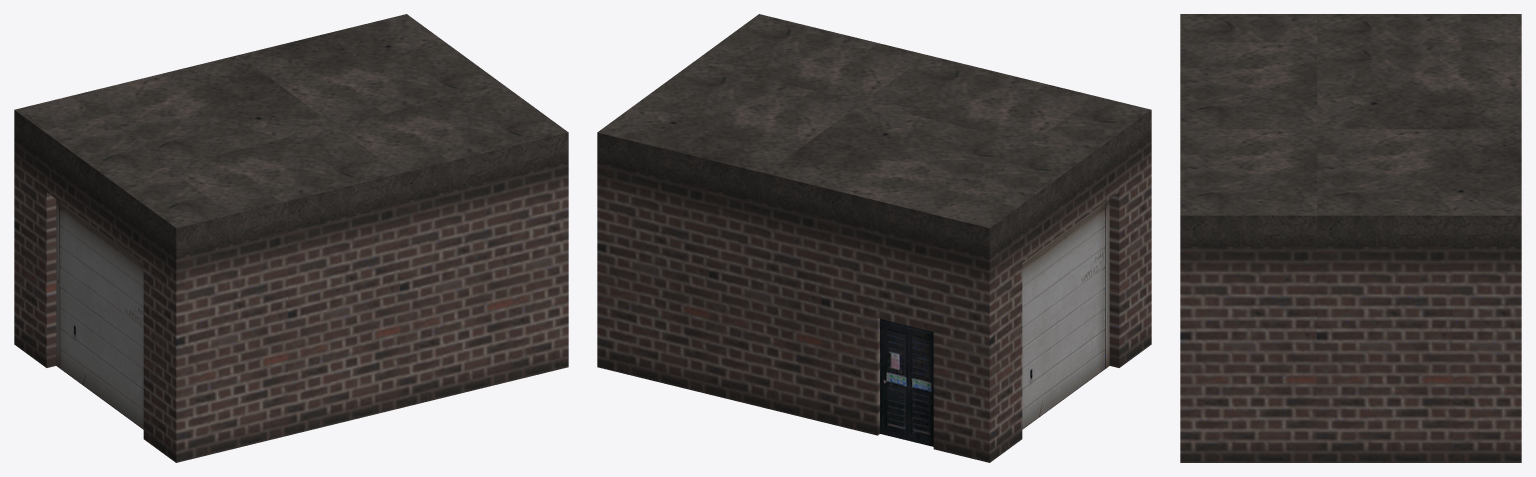
Rendered from building5.fbx.
The picture shows the model from 3 angles, left to right: view 1: azimuth 30°, elevation 25°; view 2: azimuth 150°, elevation 25°; view 3: azimuth 270°, elevation 25°; orthographic projection. The views are drawn at different scales.
Visible parts, largest first — view 1: building5; view 2: building5; view 3: building5.
Boxes of the visible parts, x1,y1,x2,y2 form: building5: [14, 14, 568, 462]; building5: [597, 14, 1151, 462]; building5: [1180, 14, 1521, 462].
Bounding box in the file's own units: 778 × 556 × 444.
1 material, 1 textured.
